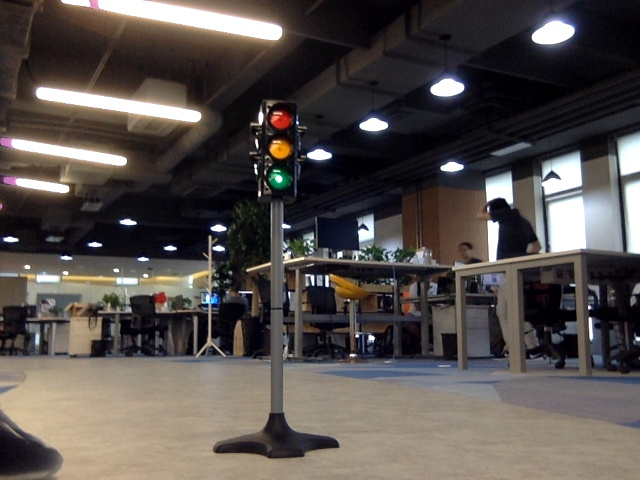green: (264, 109, 292, 189)
